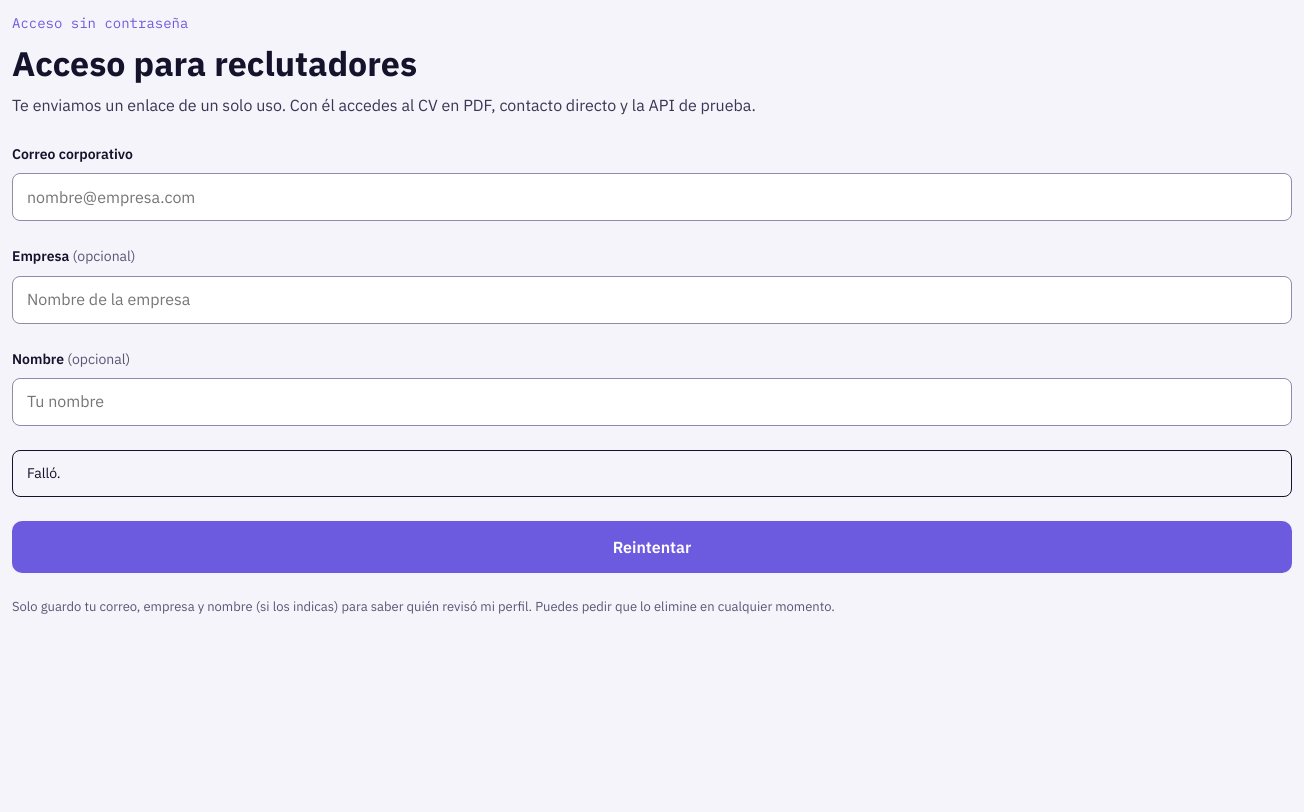
Test: LoginForm states › hides the API alert and the retry label while a local email error is shown
Check: the number of messages is 1, box [12,450,1292,497]
Click the button "Reintentar" at (652, 547), box [12,521,1292,573]
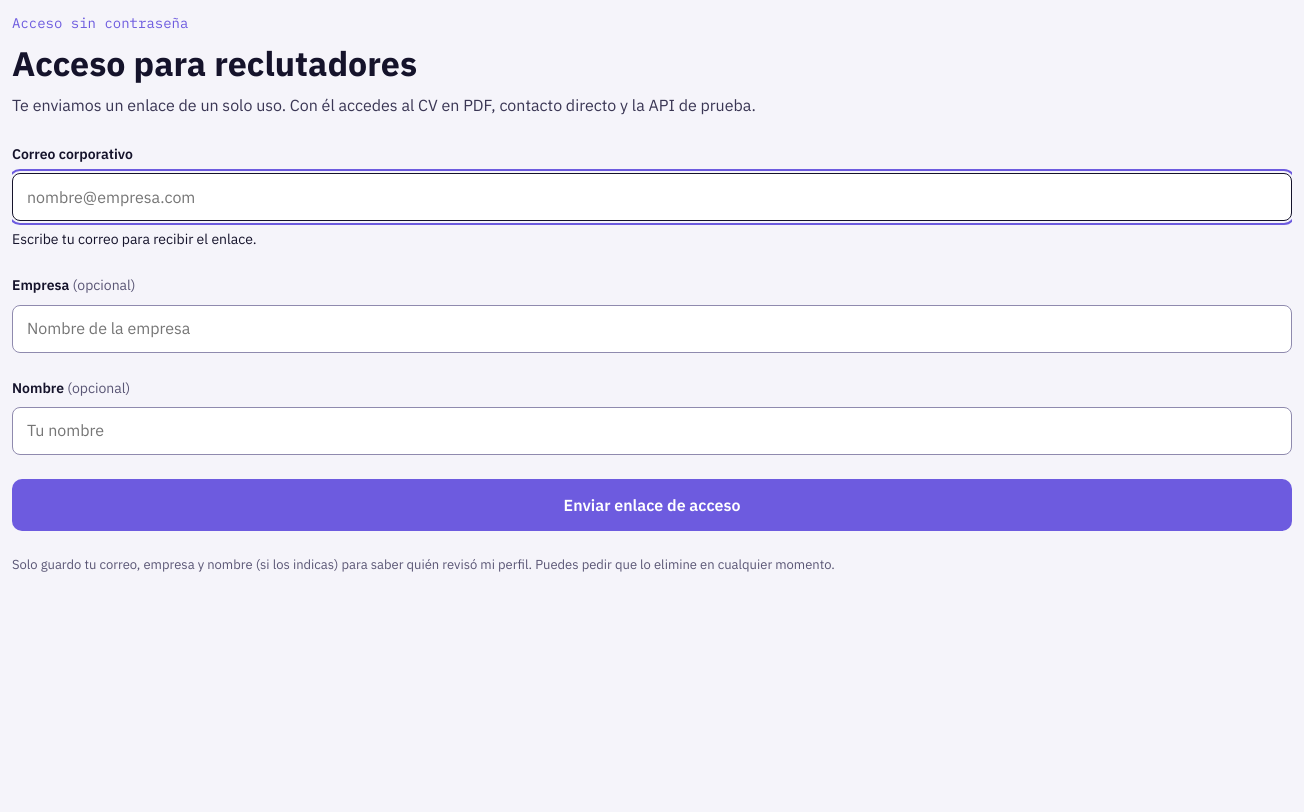
Check: the number of messages is 1, box [12,230,256,248]
Check: the message reads "Escribe tu correo para recibir el enlace.", box [12,230,256,248]
Check: the text "Falló." is gone
Type "ana@empresa.com" into the field labelled "Correo corporativo" at (652, 198), box [12,174,1292,222]
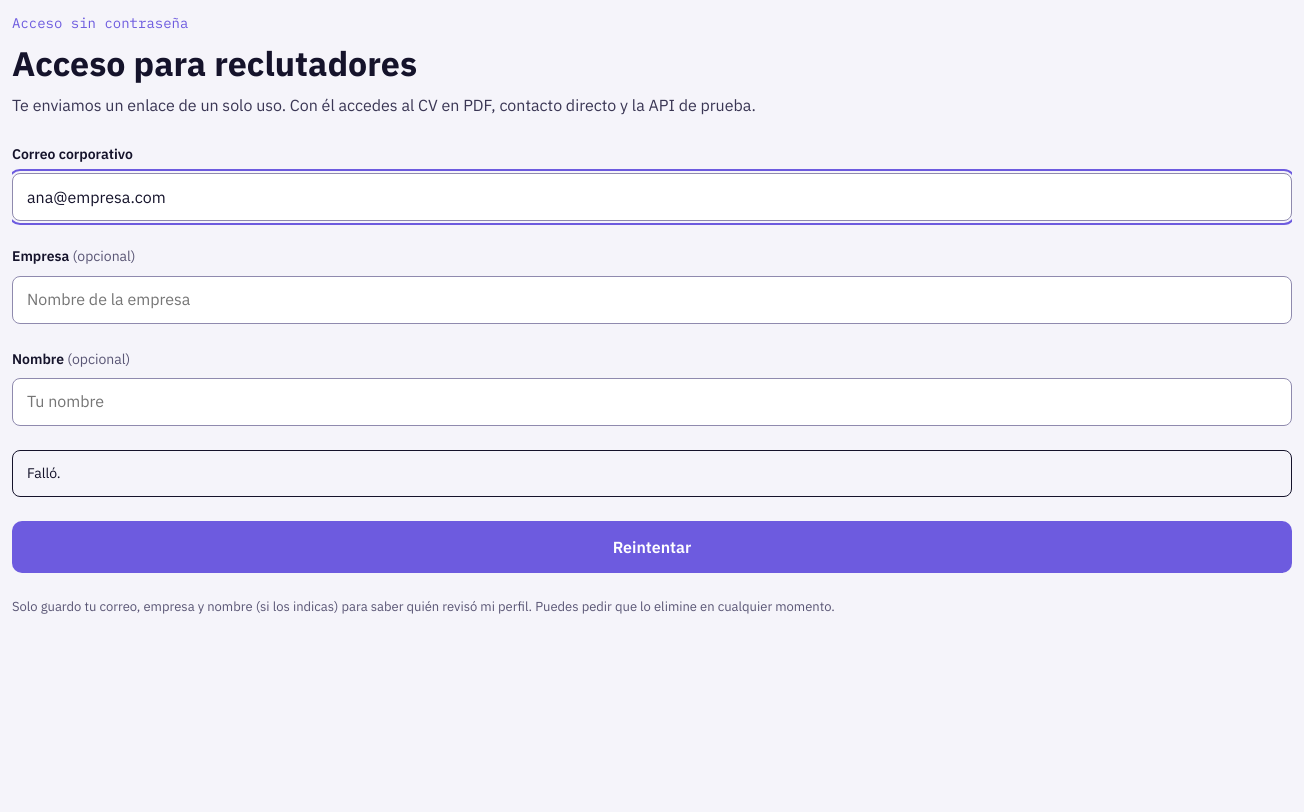
Check: the message reads "Falló.", box [27,464,61,482]
Check: the button "Reintentar" is shown, box [12,521,1292,573]
